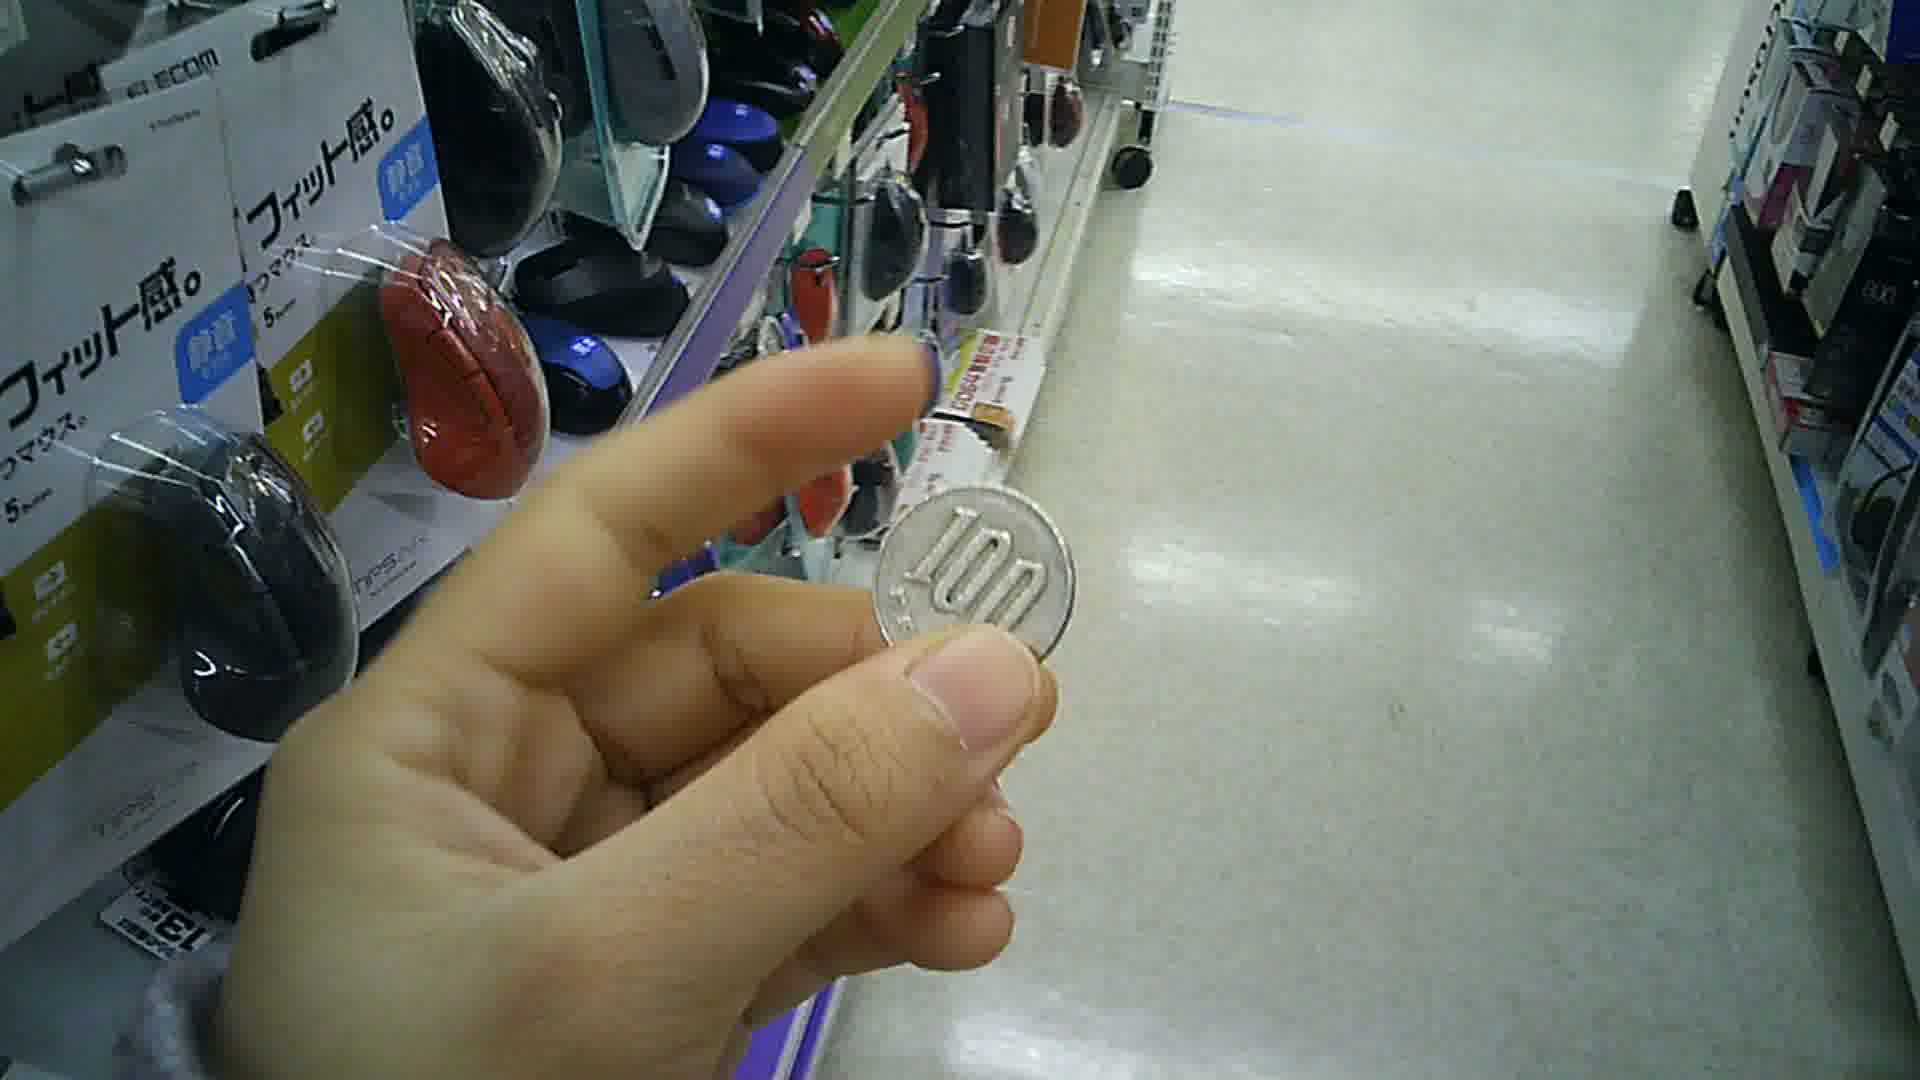100 Yen: (870, 473, 1083, 683)
